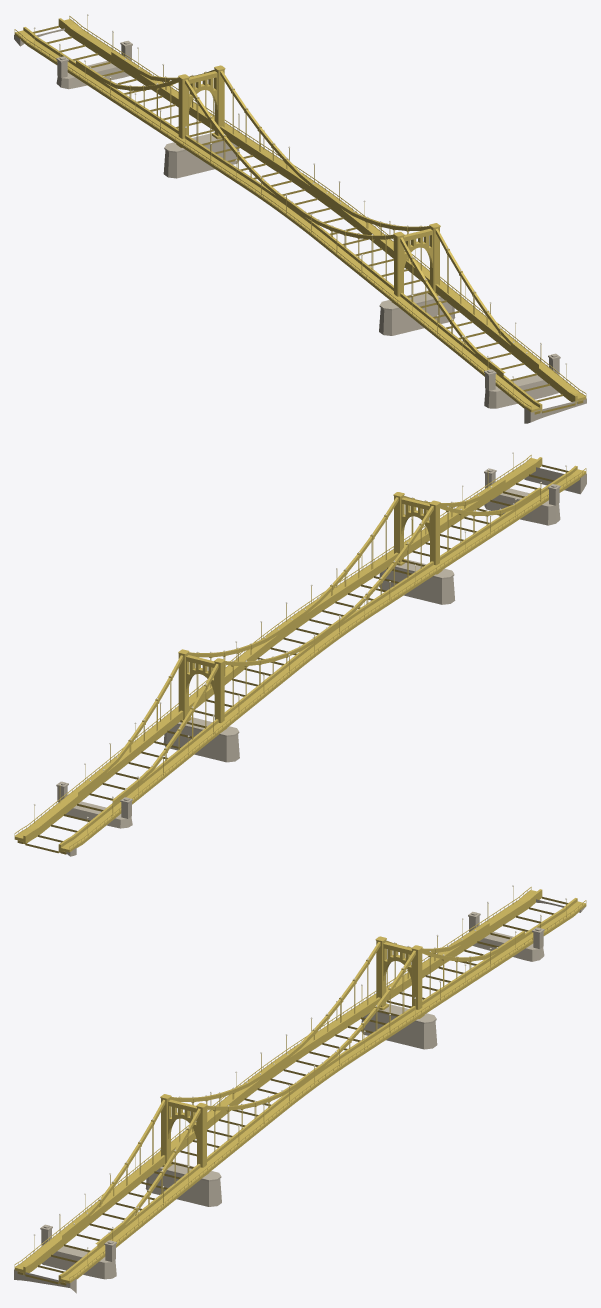
The model's file is pit-andy-warhol-bridge.detail.glb.
3 views of the same model, one above another, from view 1: azimuth 30°, elevation 25°; view 2: azimuth 150°, elevation 25°; view 3: azimuth 330°, elevation 25° (orthographic).
Visible parts, largest first — view 1: Andy Warhol Bridge; view 2: Andy Warhol Bridge; view 3: Andy Warhol Bridge.
Part boxes in pixels (x1,y1,x2,y2): Andy Warhol Bridge: [14, 14, 586, 423]; Andy Warhol Bridge: [14, 452, 586, 856]; Andy Warhol Bridge: [14, 885, 586, 1293].
Size of the model in its own units: 26.1 by 32.85 by 324.
